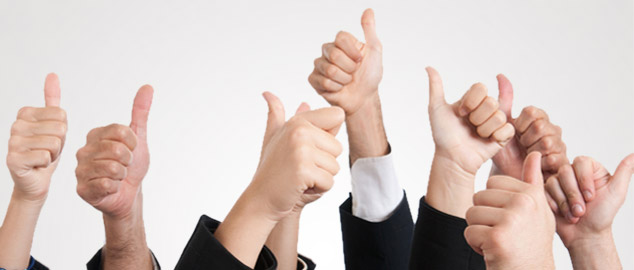thumbsup: (72, 84, 155, 211), (424, 64, 516, 163), (461, 149, 545, 256), (306, 7, 385, 106), (6, 72, 70, 187), (494, 69, 561, 174)
